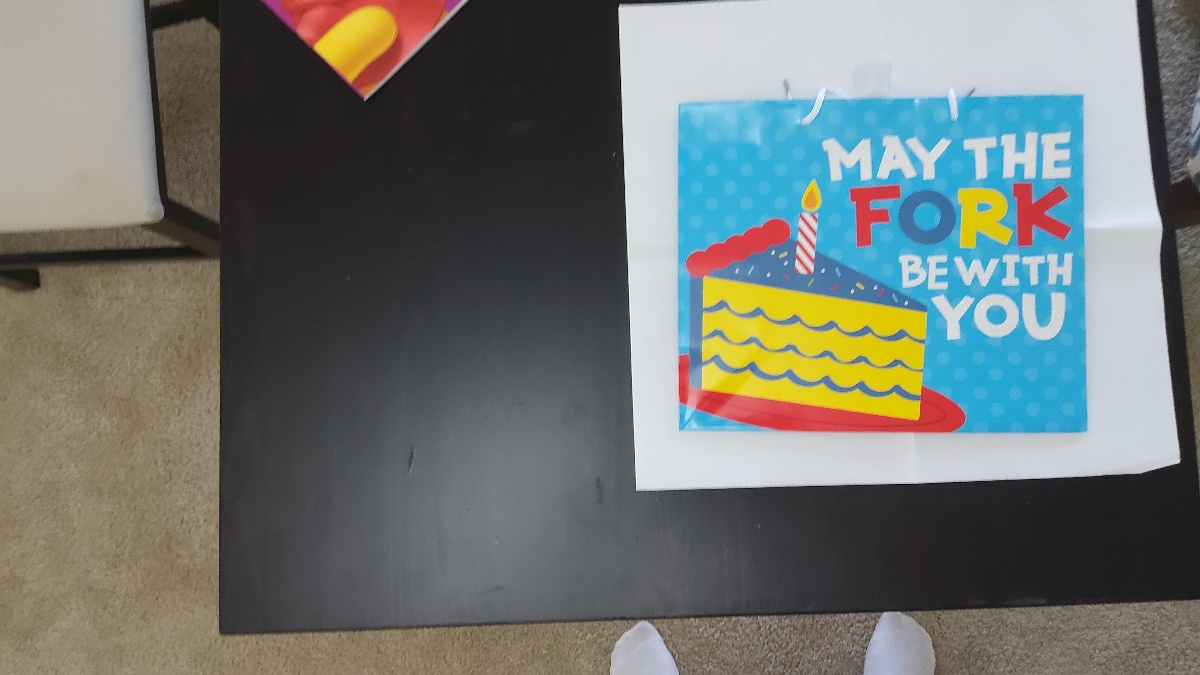paper_bag: (681, 101, 1081, 433)
